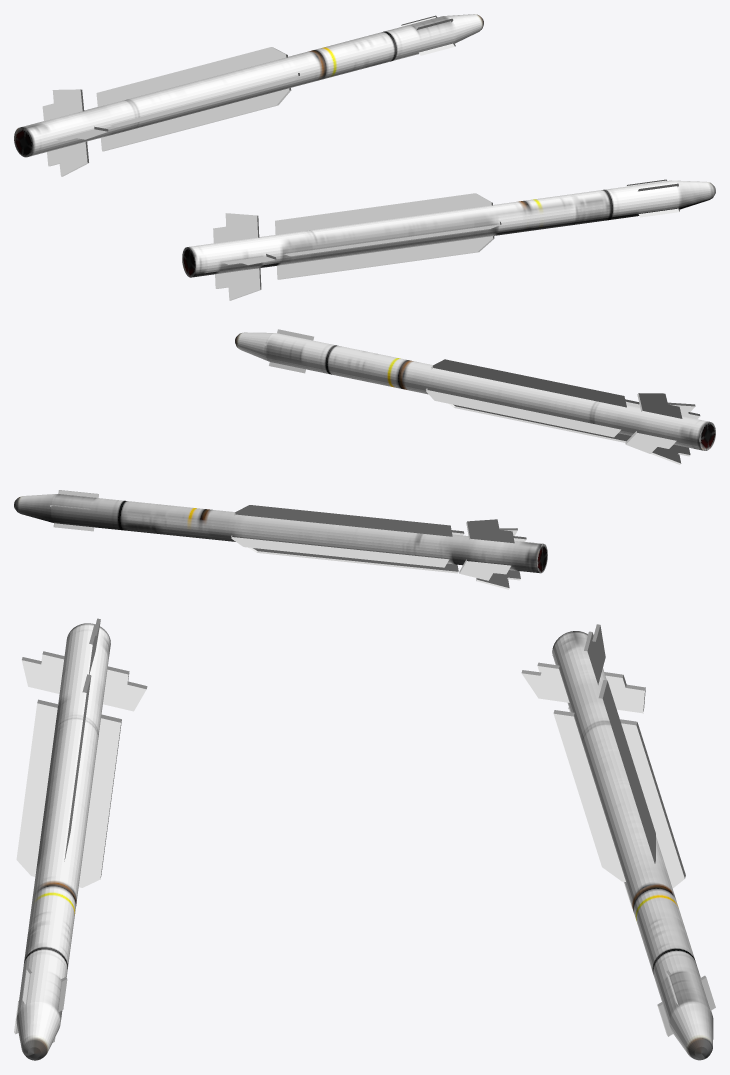
File: rafalemicair561.glb
3 views of the same model, one above another, from view 1: azimuth 30°, elevation 25°; view 2: azimuth 150°, elevation 25°; view 3: azimuth 270°, elevation 25° (orthographic). The views are drawn at different scales.
Parts seen in each view (by area): view 1: 円柱.023, 円柱.001; view 2: 円柱.001, 円柱.023; view 3: 円柱.023, 円柱.001.
Boxes of the visible parts, bbox=[...] form: 円柱.023: bbox=[182, 179, 715, 300]; 円柱.001: bbox=[14, 14, 483, 176]; 円柱.001: bbox=[14, 490, 547, 589]; 円柱.023: bbox=[235, 329, 715, 464]; 円柱.023: bbox=[14, 618, 147, 1060]; 円柱.001: bbox=[521, 624, 715, 1060].
Size of the model in its own units: 3.54 by 0.5833 by 2.94.
1 material, 1 textured.
